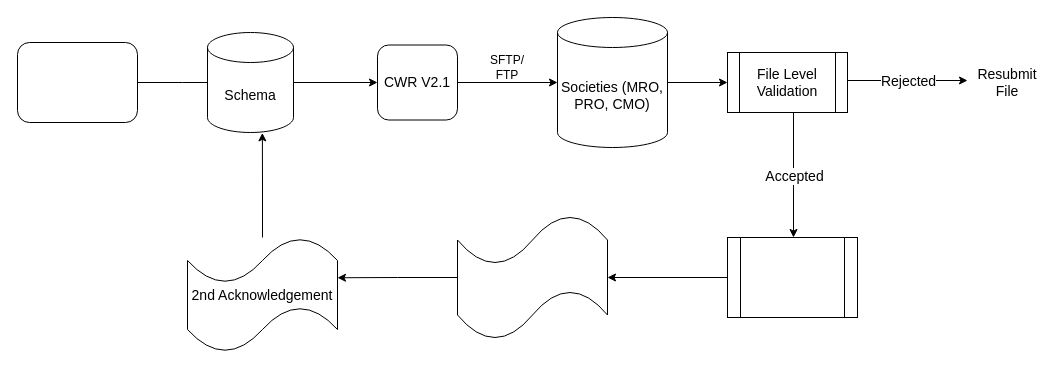
The diagram is 1055 pixels wide and 370 high, and some of its shapes have lost their labels. Here are the shapes that lost their labels. From the top down, the box of each, then its label:
(16, 42, 138, 122): Work registrations + Metadata
(456, 214, 608, 340): 1st Acknowledgement
(726, 236, 858, 318): Field and Record Level Validation
